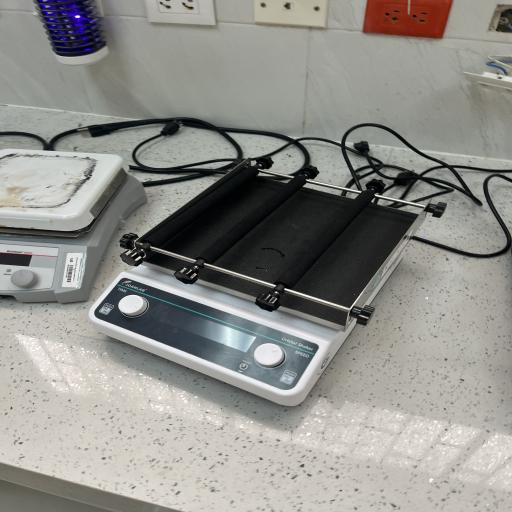Agitador_Orbital_DLAB: (79, 150, 447, 420)
